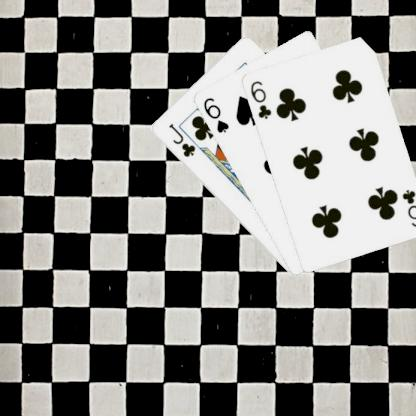6C: (248, 78, 272, 120), (398, 186, 416, 228)
6S: (200, 94, 230, 134)
JC: (166, 120, 196, 159)
